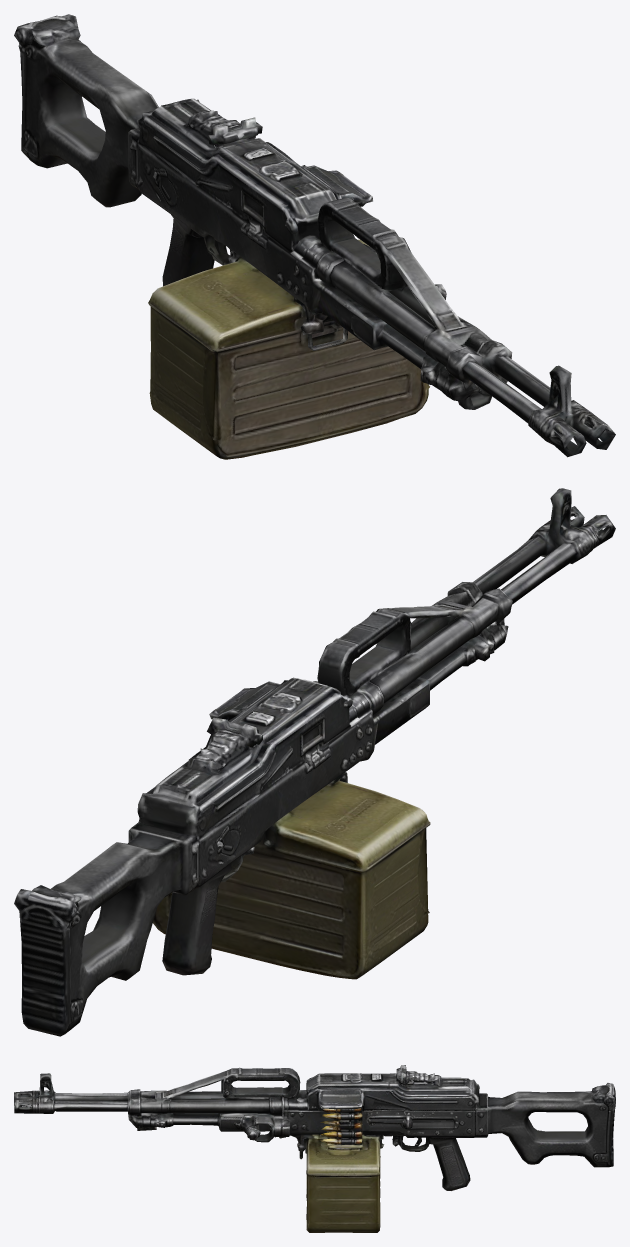
File: g_pkp.glb
3 views of the same model, one above another, from view 1: azimuth 30°, elevation 25°; view 2: azimuth 150°, elevation 25°; view 3: azimuth 270°, elevation 25° (orthographic). The views are drawn at different scales.
Visible parts, largest first — view 1: tripo_node_cc105d95-b2e7-4db9-9f90-1fb26518b98c; view 2: tripo_node_cc105d95-b2e7-4db9-9f90-1fb26518b98c; view 3: tripo_node_cc105d95-b2e7-4db9-9f90-1fb26518b98c.
Boxes of the visible parts, x1,y1,x2,y2 form: tripo_node_cc105d95-b2e7-4db9-9f90-1fb26518b98c: (14,14,615,459); tripo_node_cc105d95-b2e7-4db9-9f90-1fb26518b98c: (14,488,615,1036); tripo_node_cc105d95-b2e7-4db9-9f90-1fb26518b98c: (14,1065,615,1232).
Size of the model in its own units: 0.226 by 0.2519 by 0.9789.
Materials: 1 (1 with a texture image).
